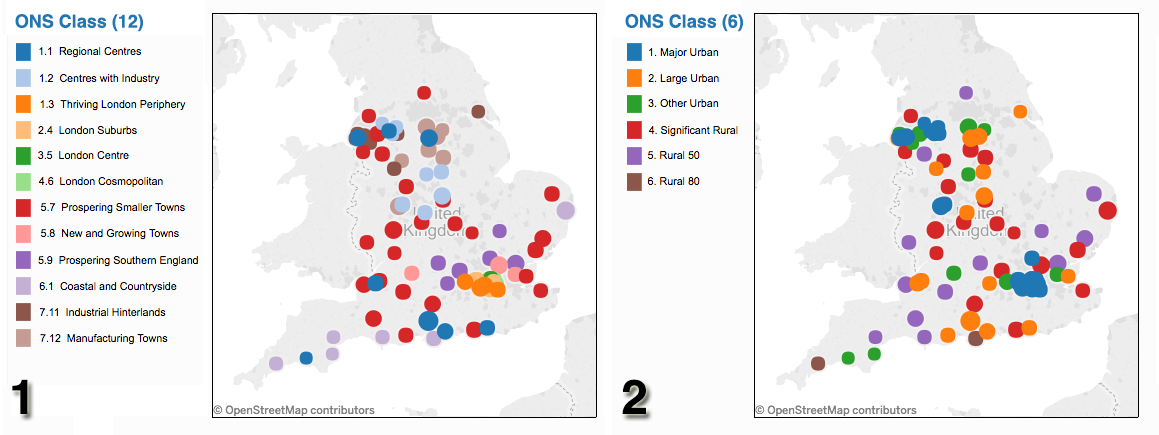

This screenshot's page, from the dashboard's own definition file:
{"tool":"tableau","page":{"name":"Dashboard 1","canvas":[600,350],"ordinal":0},"visuals":[{"type":"worksheet","title":"Sheet 1","mark":"Bar","rows":["Gender"],"cols":["Number"],"box":[0,0,440,147]},{"type":"legend","title":"Sheet 1","param":"[federated.0nu8bq403tzb9z1fh35ge1srv0x0].[none:Gender:nk]","box":[440,0,160,70]},{"type":"legend","title":"Sheet 2","param":"[federated.0nu8bq403tzb9z1fh35ge1srv0x0].[Goal of Evening (group)]","box":[440,70,160,66]},{"type":"worksheet","title":"Sheet 2","mark":"Automatic","rows":["Goal of Evening "],"cols":["Number 2"],"box":[0,147,440,203]}]}

Visuals, with their boxes on the page's 600x350 design canvas (x1, y1, x2, y2). These are canvas units, not pixel positions in the 1159x435 screenshot, which may show the page scaled, cropped or inside an application window:
"Sheet 1" worksheet (Bar marks): pyautogui.locateOnScreen(0, 0, 440, 147)
"Sheet 1" legend: pyautogui.locateOnScreen(440, 0, 600, 70)
"Sheet 2" legend: pyautogui.locateOnScreen(440, 70, 600, 136)
"Sheet 2" worksheet: pyautogui.locateOnScreen(0, 147, 440, 350)
